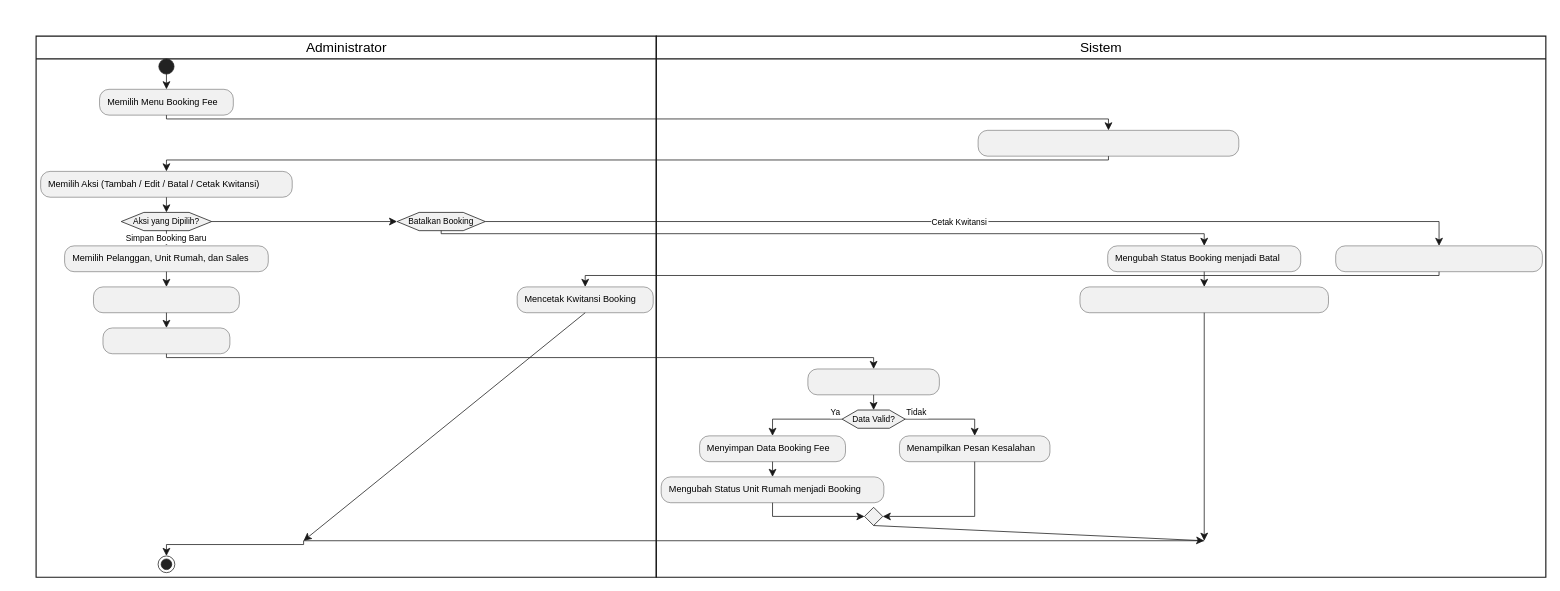
Image size: 1560x591. Some labels were removed from this diagram. Each missing label, with the centre of its shape:
Memvalidasi Data Booking: the point at 873,381
Menampilkan Data Booking dan Unit Berstatus Tersedia: the point at 1108,143
Menampilkan Preview Kwitansi Booking Fee: the point at 1438,258
Menekan Tombol Simpan: the point at 166,340
Mengembalikan Status Unit Rumah menjadi Tersedia: the point at 1203,299
Mengisi Nominal Booking Fee: the point at 166,299
